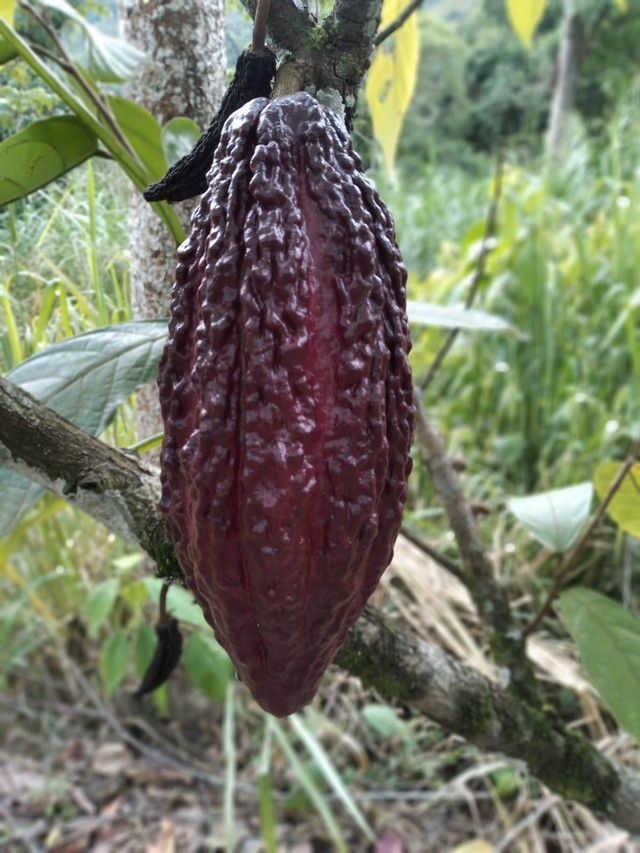Health: (145, 54, 432, 729)
